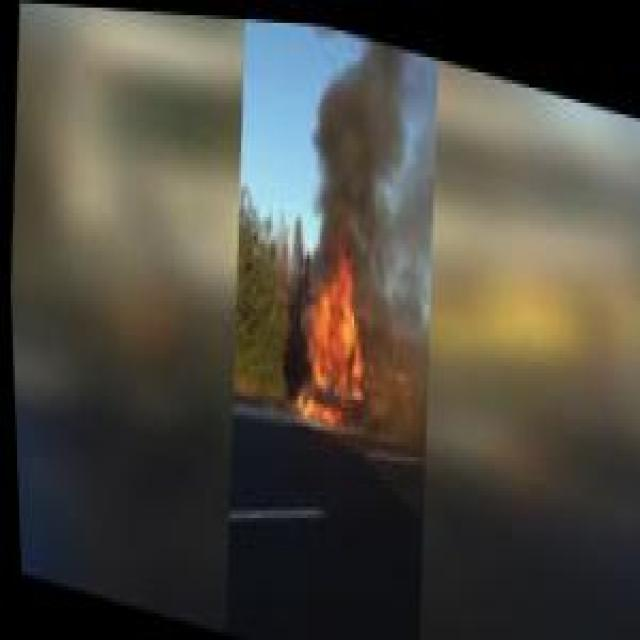Fire: (275, 217, 386, 438)
Smoke: (294, 19, 433, 255)
